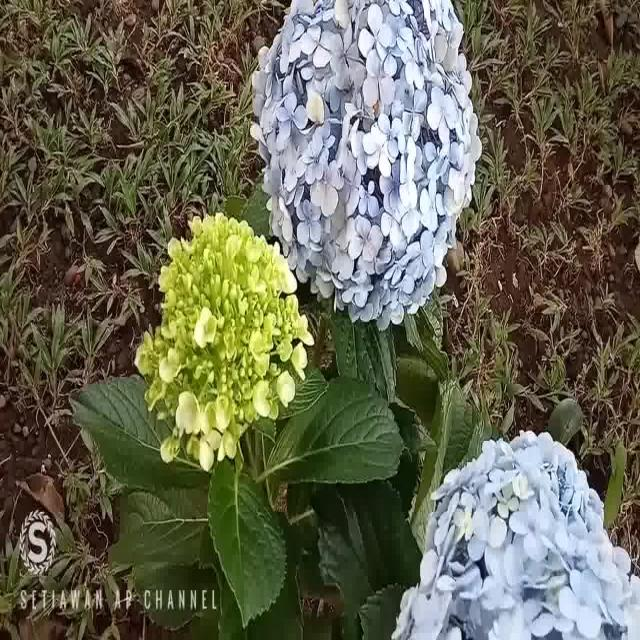Flower: (254, 1, 482, 323), (136, 198, 309, 492)
